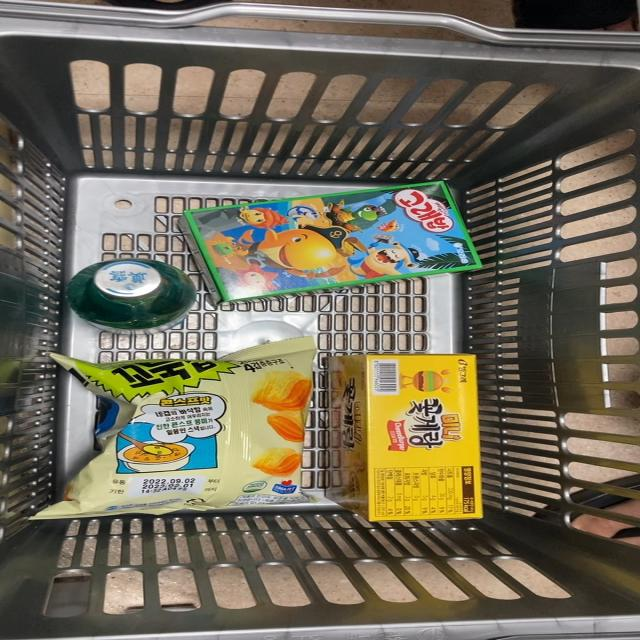ggobukchip: (44, 342, 330, 516)
goraebob: (153, 178, 501, 300)
jinro: (54, 254, 206, 348)
minicrab: (314, 350, 500, 526)
